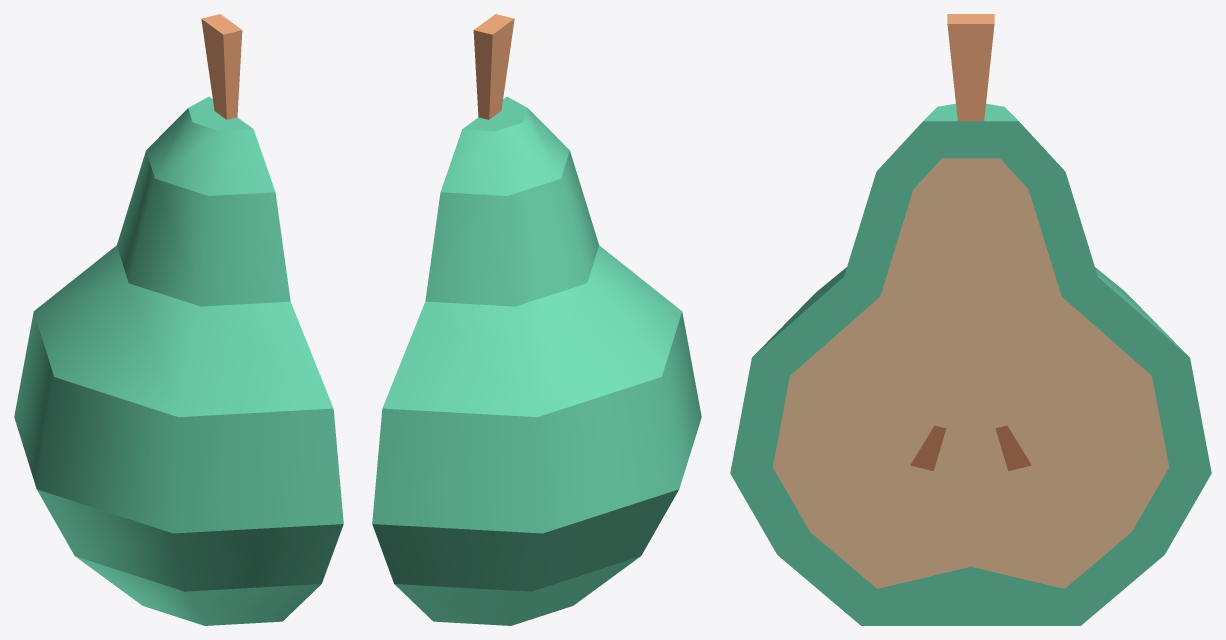
Rendered from Pear Half.glb.
3 renders of one model, left to right at view 1: azimuth 30°, elevation 25°; view 2: azimuth 150°, elevation 25°; view 3: azimuth 270°, elevation 25°, orthographic. The views are drawn at different scales.
Parts seen in each view (by area): view 1: pearHalf; view 2: pearHalf; view 3: pearHalf.
Part boxes in pixels (x1,y1,x2,y2): pearHalf: (14, 14, 343, 625); pearHalf: (372, 14, 701, 625); pearHalf: (730, 14, 1211, 625).
Size of the model in its own units: 0.0981 by 0.2708 by 0.1963.
